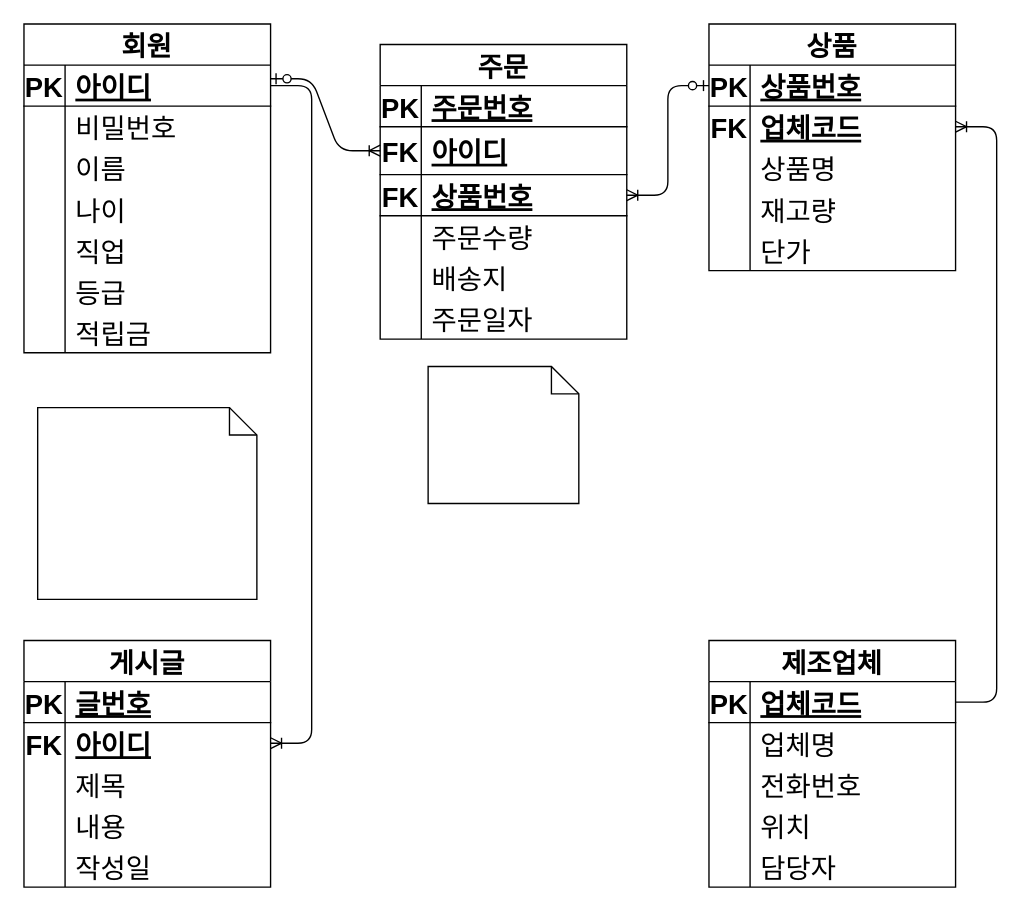
This 1032x911 diagram has some shape labels left out. The shapes that lost their labels are listed below. From the top down, each one's centre as x and y in pixels, then its label:
point 503,434: 회원:상품 (M:N) 테이블로 표현
point 146,502: 회원:게시글 (1:N) N쪽에 외래키 표현 회원 선택적 참여 게시글 필수적 참여
